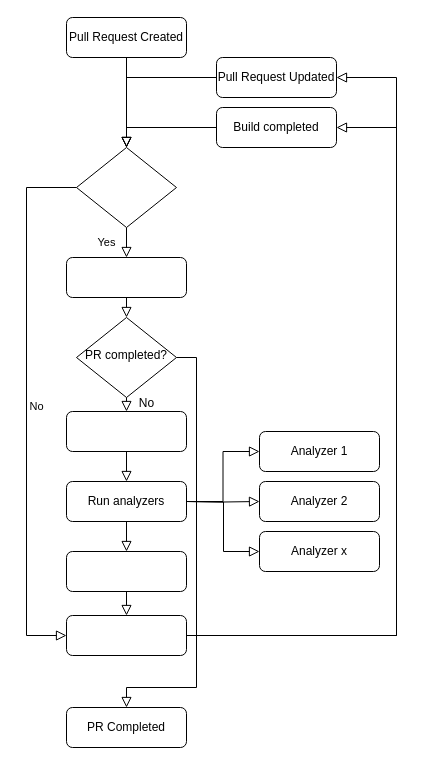
Some shapes in this 424 by 765 pixel diagram are drawn without their labels. The box of each missing label's shape, as (x1, y1, x2, y2) in pixels:
Can PR be merged?: (76, 146, 176, 228)
Get configured build definitions: (66, 410, 186, 452)
Get files modified: (66, 256, 186, 298)
Update state: (66, 550, 186, 592)
Wait for updates/build completed: (66, 614, 186, 656)
